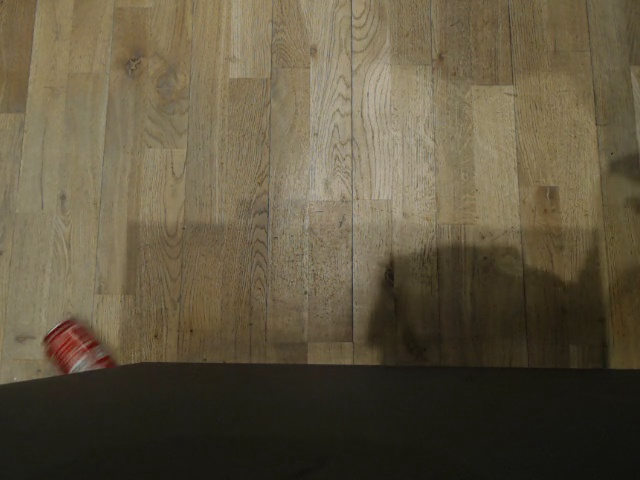cola: (41, 317, 114, 384)
